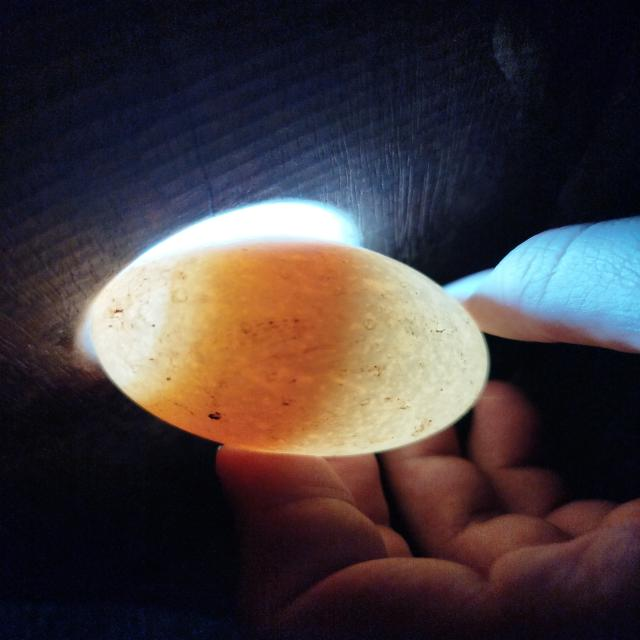Camara de Ar: (90, 255, 168, 389)
Gema Quebrada: (143, 243, 346, 452)
